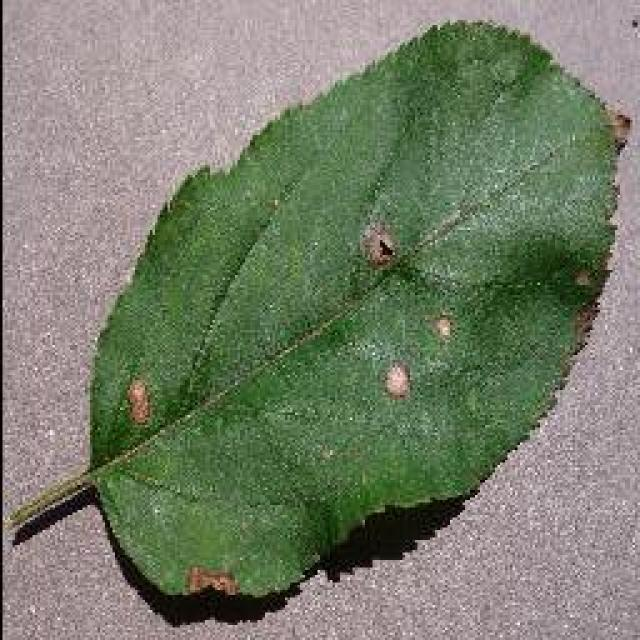Black_rot: (5, 17, 625, 605)
